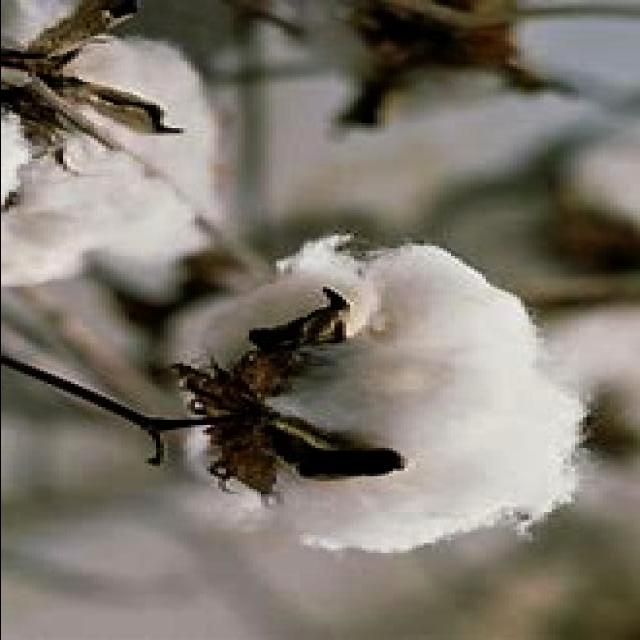Matured Cotton Boll: (170, 230, 602, 558), (0, 30, 216, 294)
